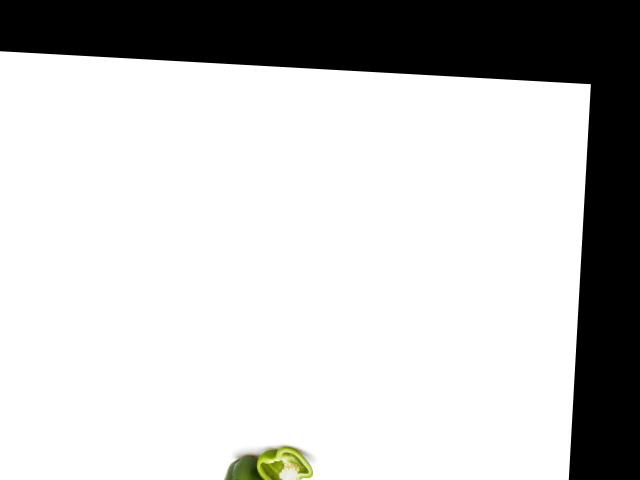bell_pepper: (252, 446, 316, 480)
